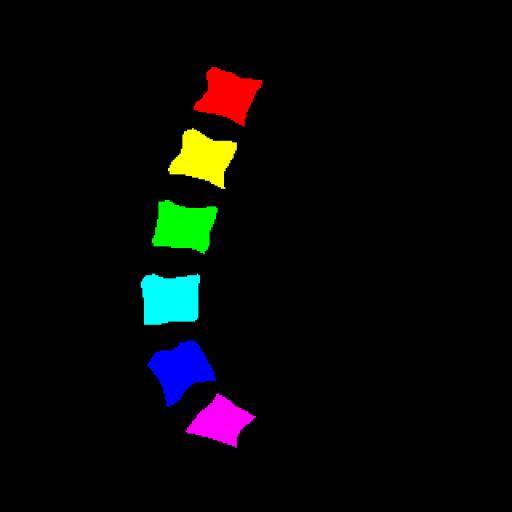L1: (194, 67, 262, 126)
L2: (168, 129, 237, 188)
L3: (152, 200, 218, 254)
L4: (141, 274, 200, 324)
L5: (147, 341, 216, 406)
S1: (186, 394, 255, 447)
